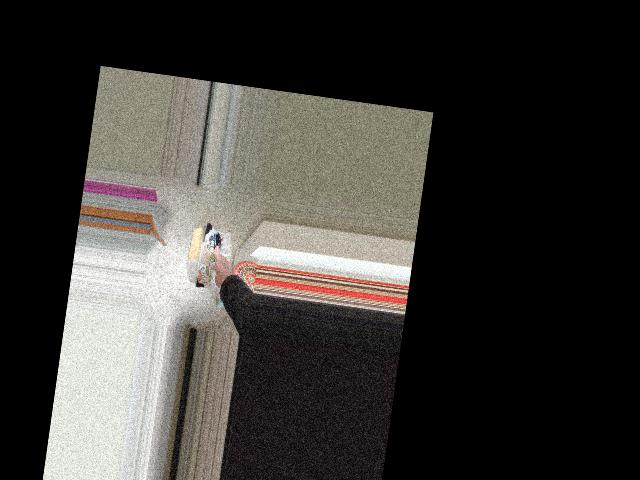cheese: (166, 216, 239, 299)
